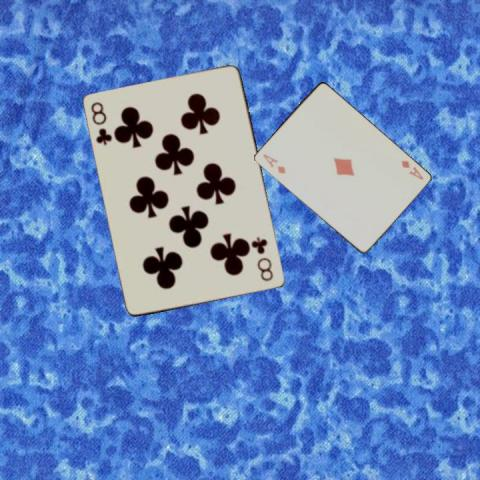8c: (88, 99, 114, 147), (251, 234, 275, 283)
Ad: (259, 151, 287, 175), (398, 158, 425, 182)
